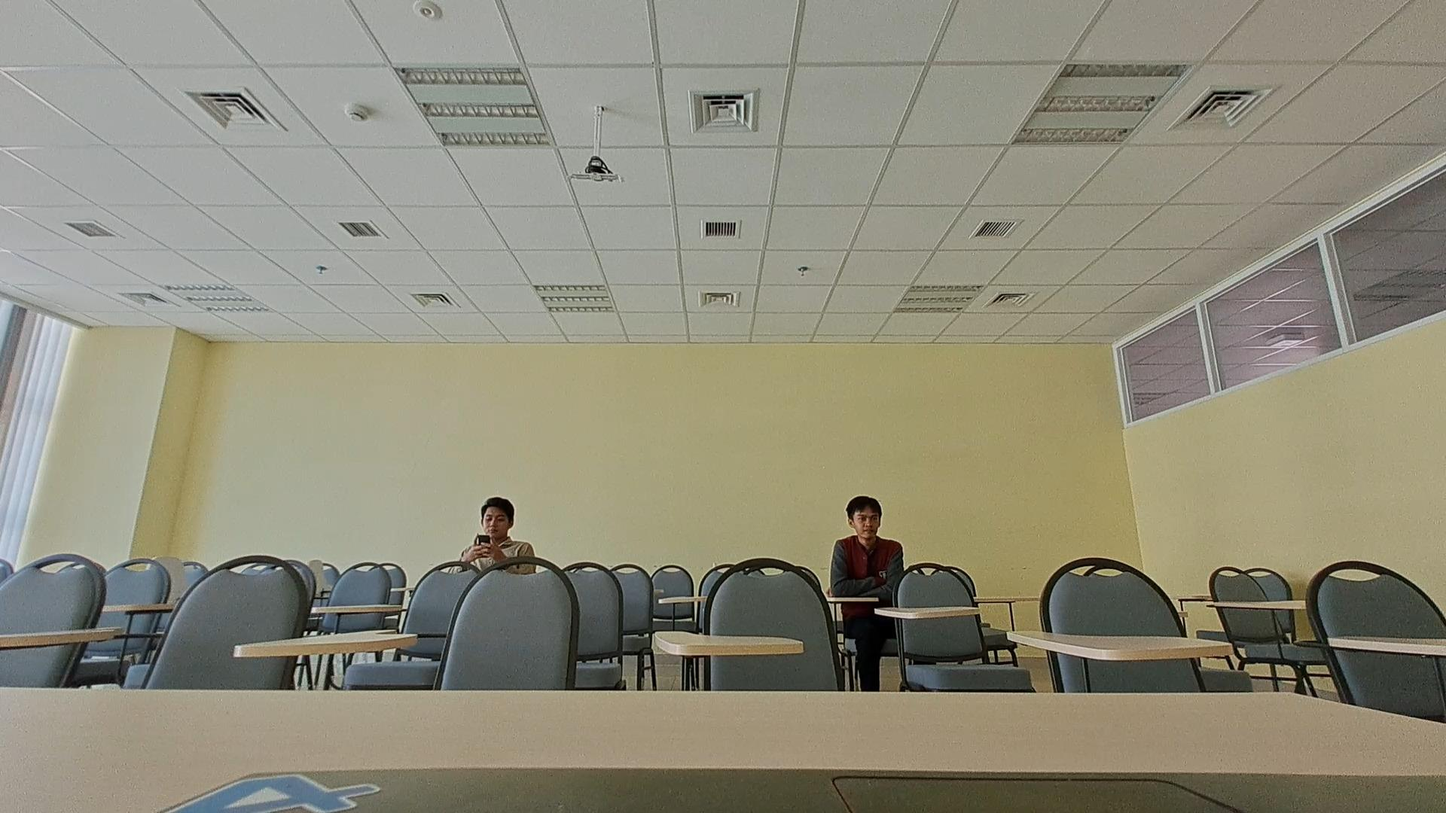phone: (454, 494, 535, 575)
study: (830, 496, 905, 600)
